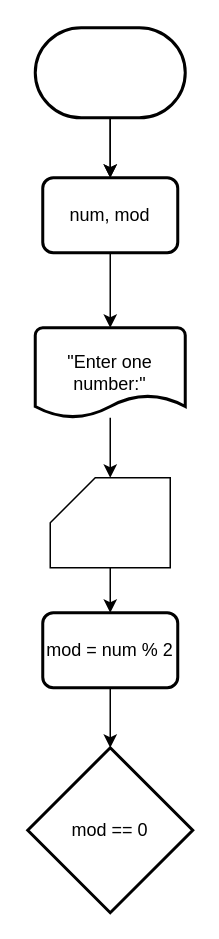
Image size: 219x939. Some labels were removed from this diagram. The shapes that lost their labels are listed below. From the top down, each one's centre as x and y in pixels, then its label:
At pixel 109 72: "Start".
At pixel 109 522: "num".
